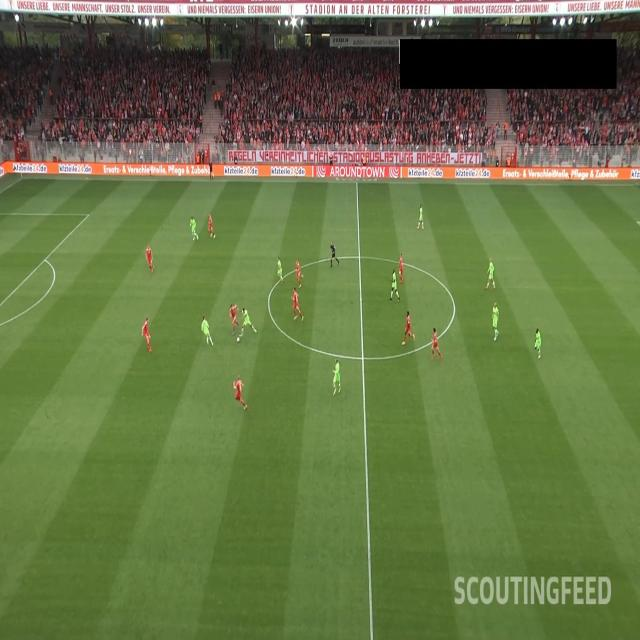ball: (237, 336, 240, 343)
